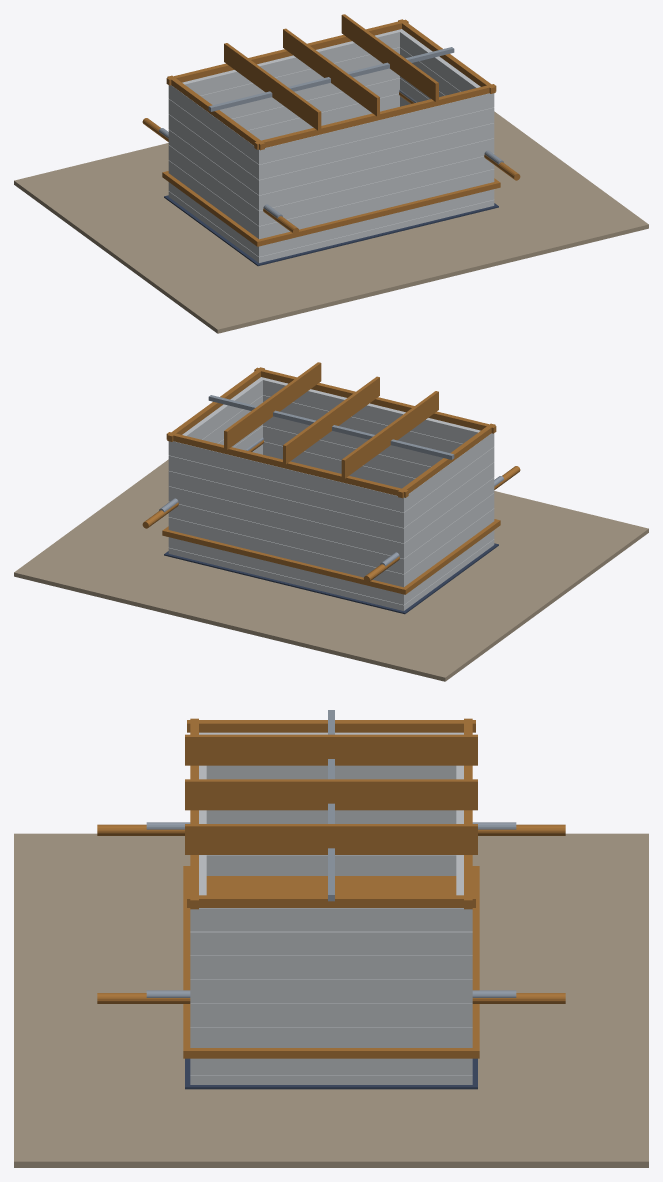
File: stage_09_roof_structure.glb
3 renders of one model, top to bottom at view 1: azimuth 30°, elevation 25°; view 2: azimuth 150°, elevation 25°; view 3: azimuth 270°, elevation 25°, orthographic. The views are drawn at different scales.
Parts seen in each view (by area): view 1: world; view 2: world; view 3: world.
Part boxes in pixels (x1=…): world: x1=14, y1=14, x2=648, y2=333; world: x1=14, y1=362, x2=648, y2=681; world: x1=14, y1=710, x2=648, y2=1167.
Bounding box in the file's own units: 11 × 3.59 × 9.
